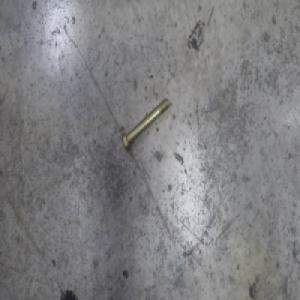Bolt: (120, 95, 170, 153)
